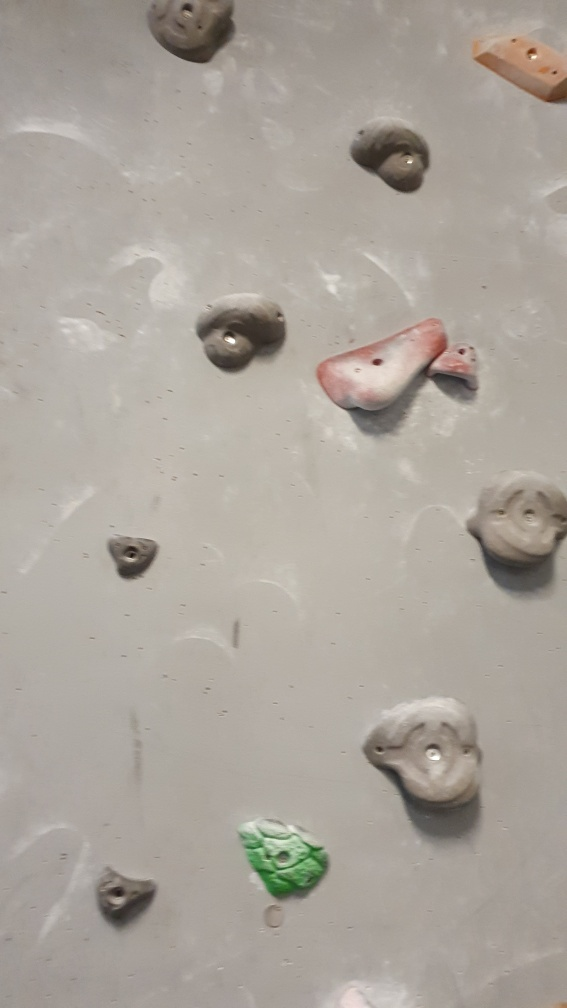Crimp: (100, 530, 162, 587)
Hand Start: (259, 902, 287, 934)
Jug: (360, 693, 484, 814), (463, 470, 567, 576), (191, 291, 291, 375), (347, 114, 434, 194)
Pinch: (470, 24, 567, 109)
